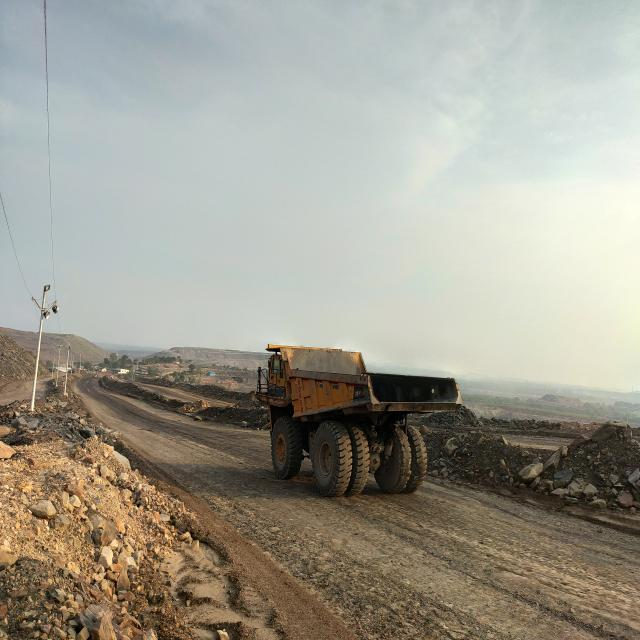dump_truck: (256, 345, 460, 497)
